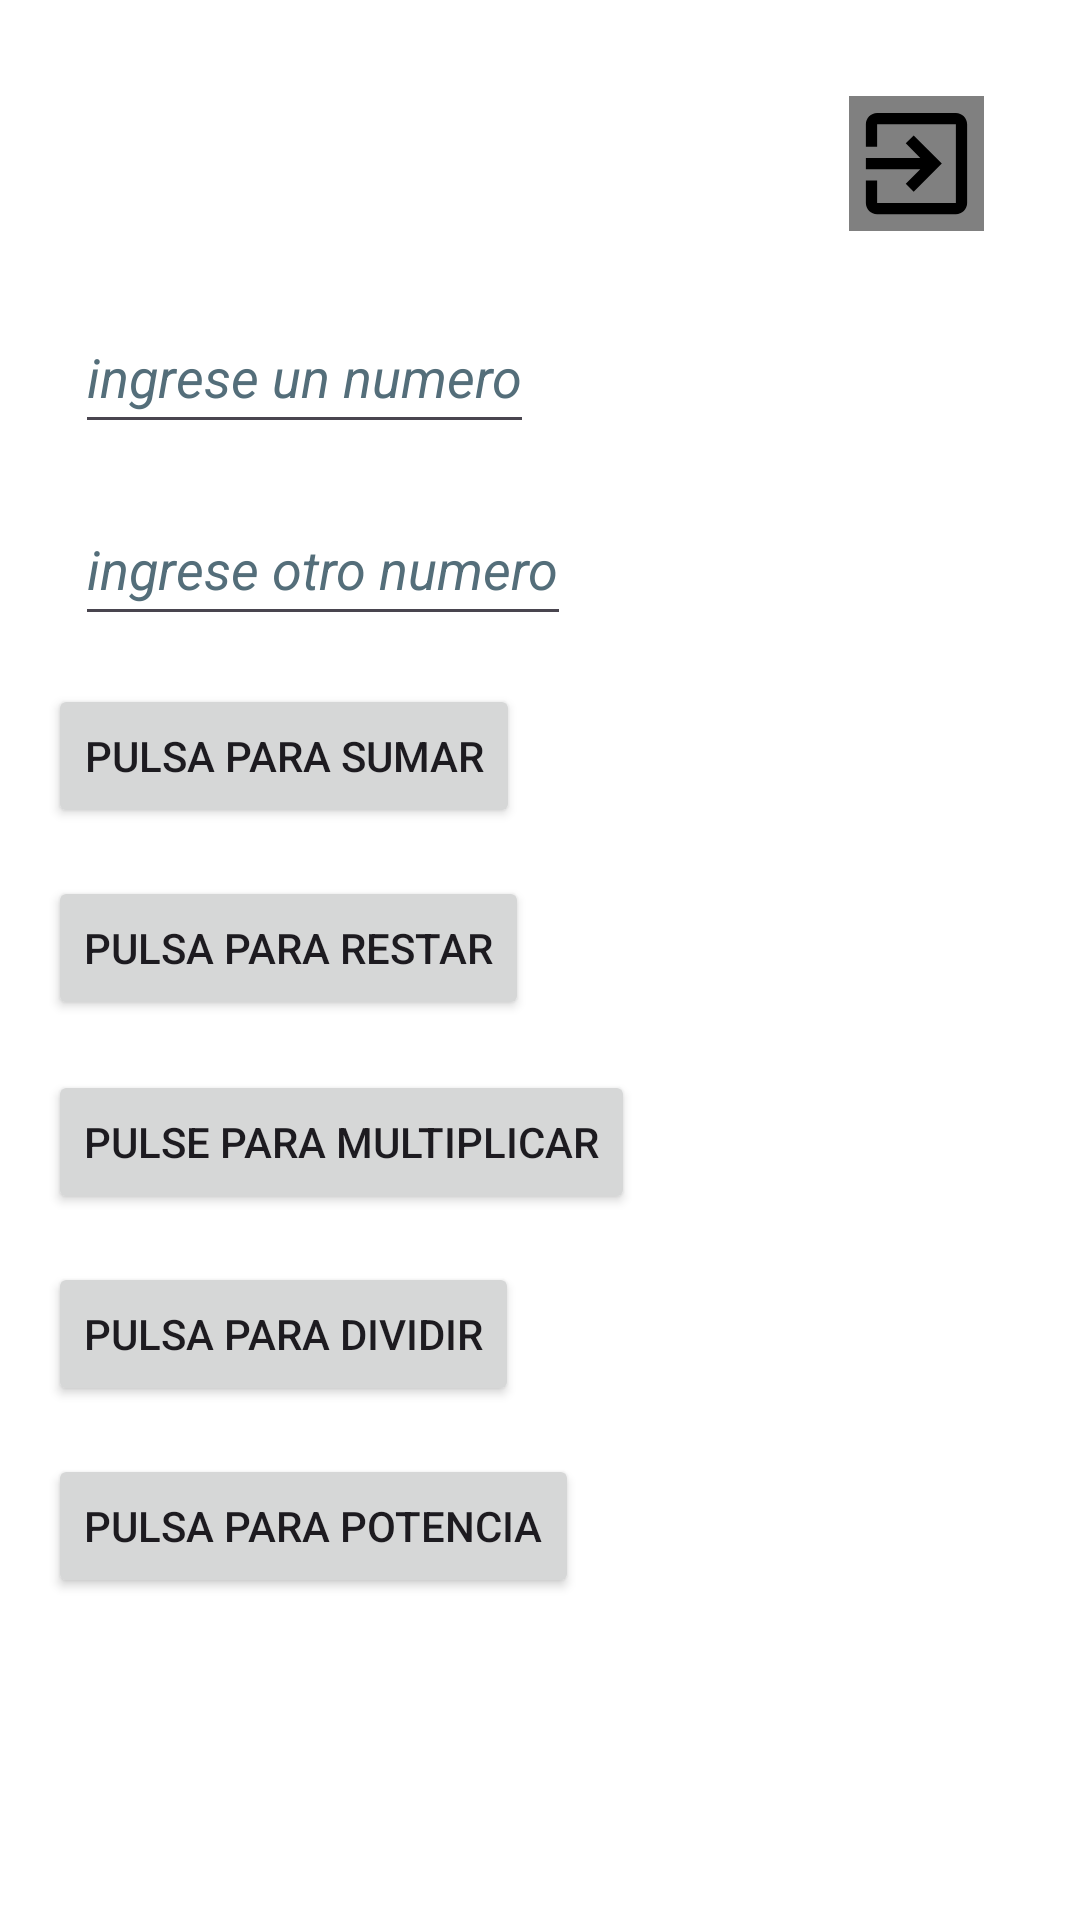

Icons on this 1080*1920 Android screen, each with the point to tap as point (x, y):
exit to app: point (916, 163)
